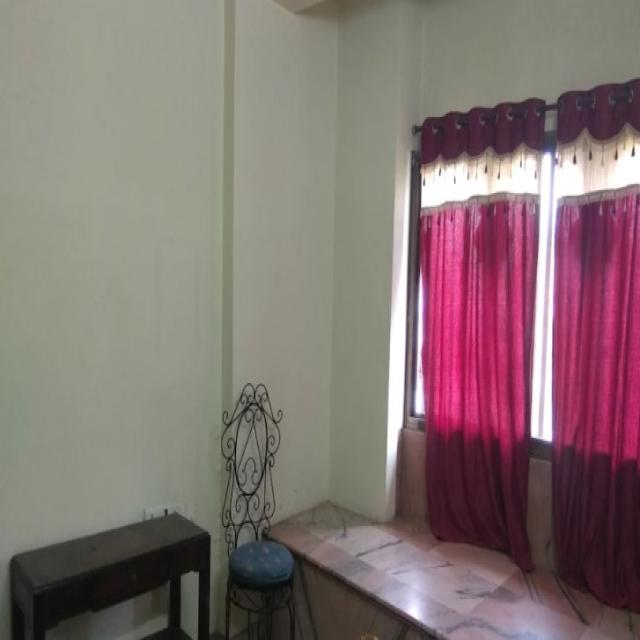Non_Damaged: (9, 5, 640, 638)
